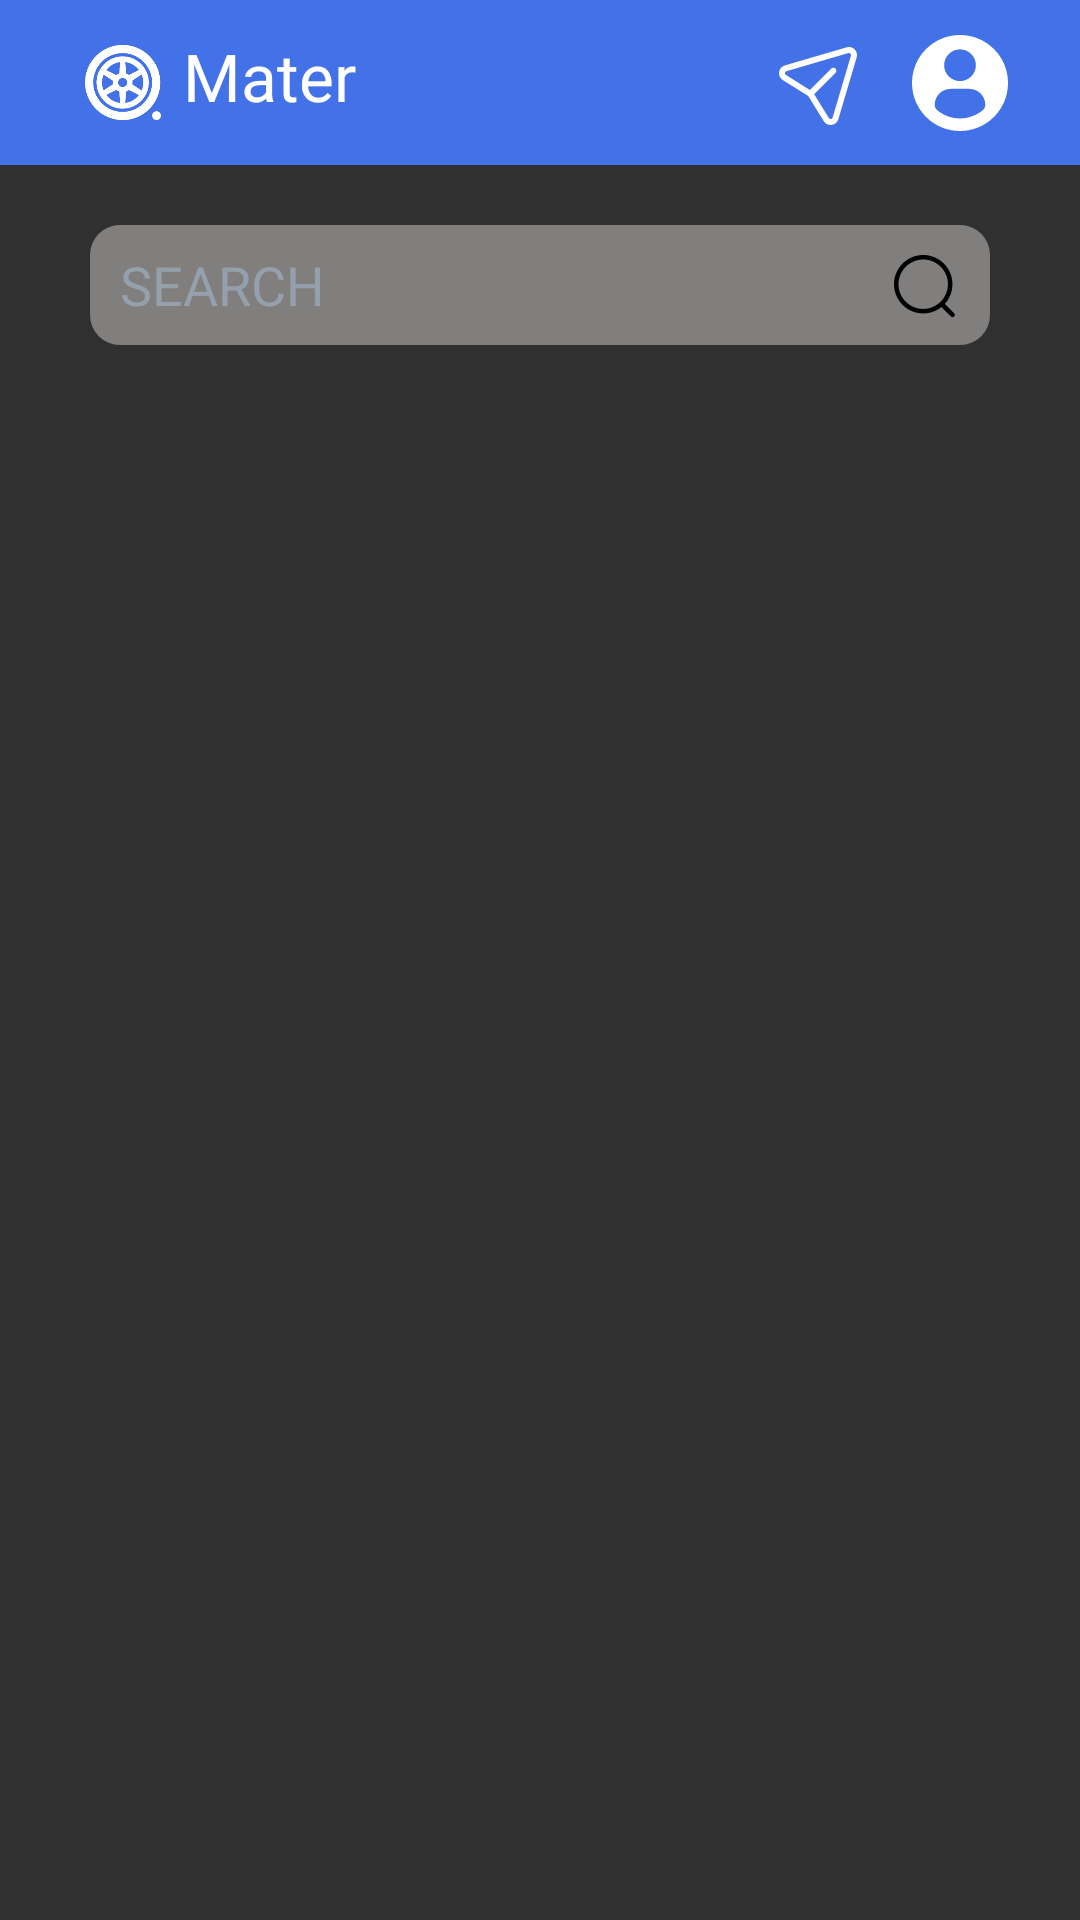

Icon bounding boxes for this 1080w x 1920h phone screenshot, format {"left": x1, "top": y1, "right": x2, "bottom": y2}:
profile user toolbar: {"left": 912, "top": 35, "right": 1008, "bottom": 131}
send: {"left": 779, "top": 47, "right": 857, "bottom": 125}
wheel: {"left": 85, "top": 45, "right": 161, "bottom": 120}
